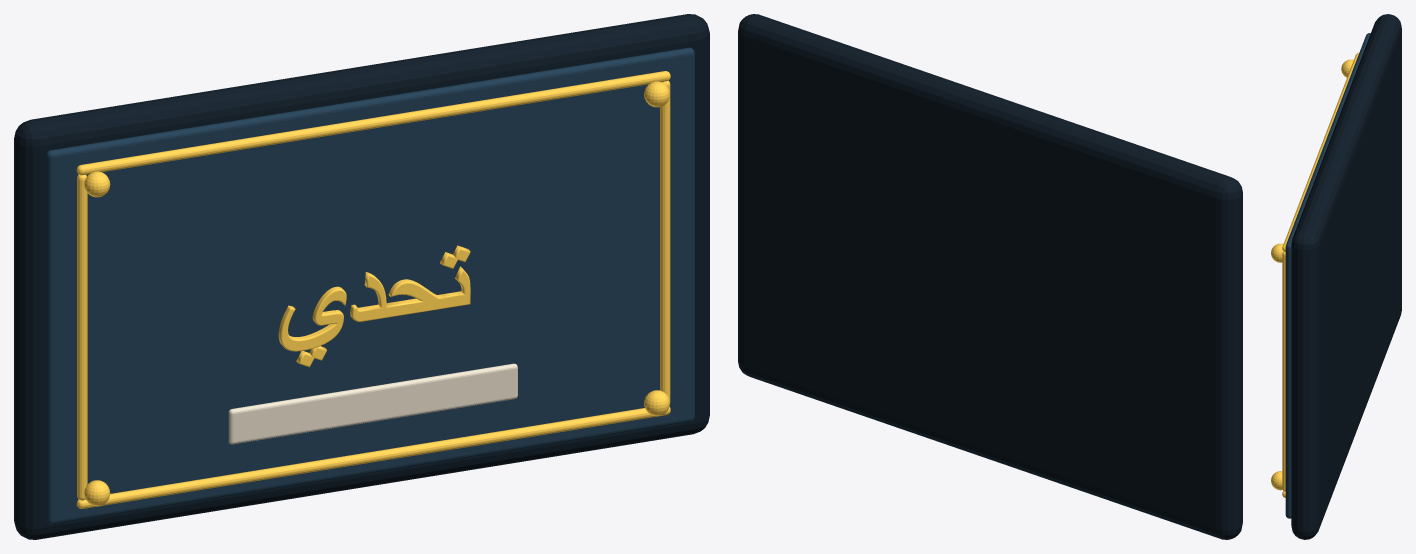
3 renders of one model, left to right at view 1: azimuth 30°, elevation 25°; view 2: azimuth 150°, elevation 25°; view 3: azimuth 270°, elevation 25°, orthographic. The views are drawn at different scales.
Visible parts, largest first — view 1: CardFace, CardBody, SubtitlePlate, FrameTop, FrameBottom, ChallengeTitle_AR, FrameLeft, FrameRight; view 2: CardBody; view 3: CardBody, CardFace, FrameRight, FrameTop, GoldStud.003, GoldStud.002.
Boxes of the visible parts, bbox=[...] form: CardFace: bbox=[45, 47, 694, 524]; CardBody: bbox=[14, 14, 709, 539]; SubtitlePlate: bbox=[228, 363, 517, 444]; FrameTop: bbox=[76, 71, 670, 175]; FrameBottom: bbox=[76, 407, 670, 508]; ChallengeTitle_AR: bbox=[278, 245, 470, 367]; FrameLeft: bbox=[77, 174, 87, 500]; FrameRight: bbox=[660, 80, 670, 402]; CardBody: bbox=[738, 14, 1242, 539]; CardBody: bbox=[1291, 14, 1401, 539]; CardFace: bbox=[1285, 33, 1370, 518]; FrameRight: bbox=[1282, 251, 1285, 491]; FrameTop: bbox=[1282, 52, 1358, 251]; GoldStud.003: bbox=[1271, 243, 1283, 262]; GoldStud.002: bbox=[1271, 471, 1282, 490].
Size of the model in its own units: 5.33 by 3.35 by 1.29.
